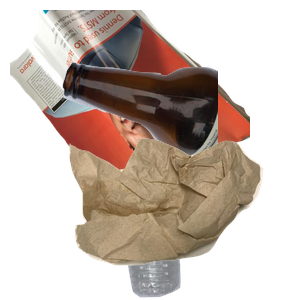glass: (60, 59, 300, 217)
paper: (10, 10, 250, 190)
plastic: (115, 176, 288, 300)
trash: (67, 136, 300, 300)
